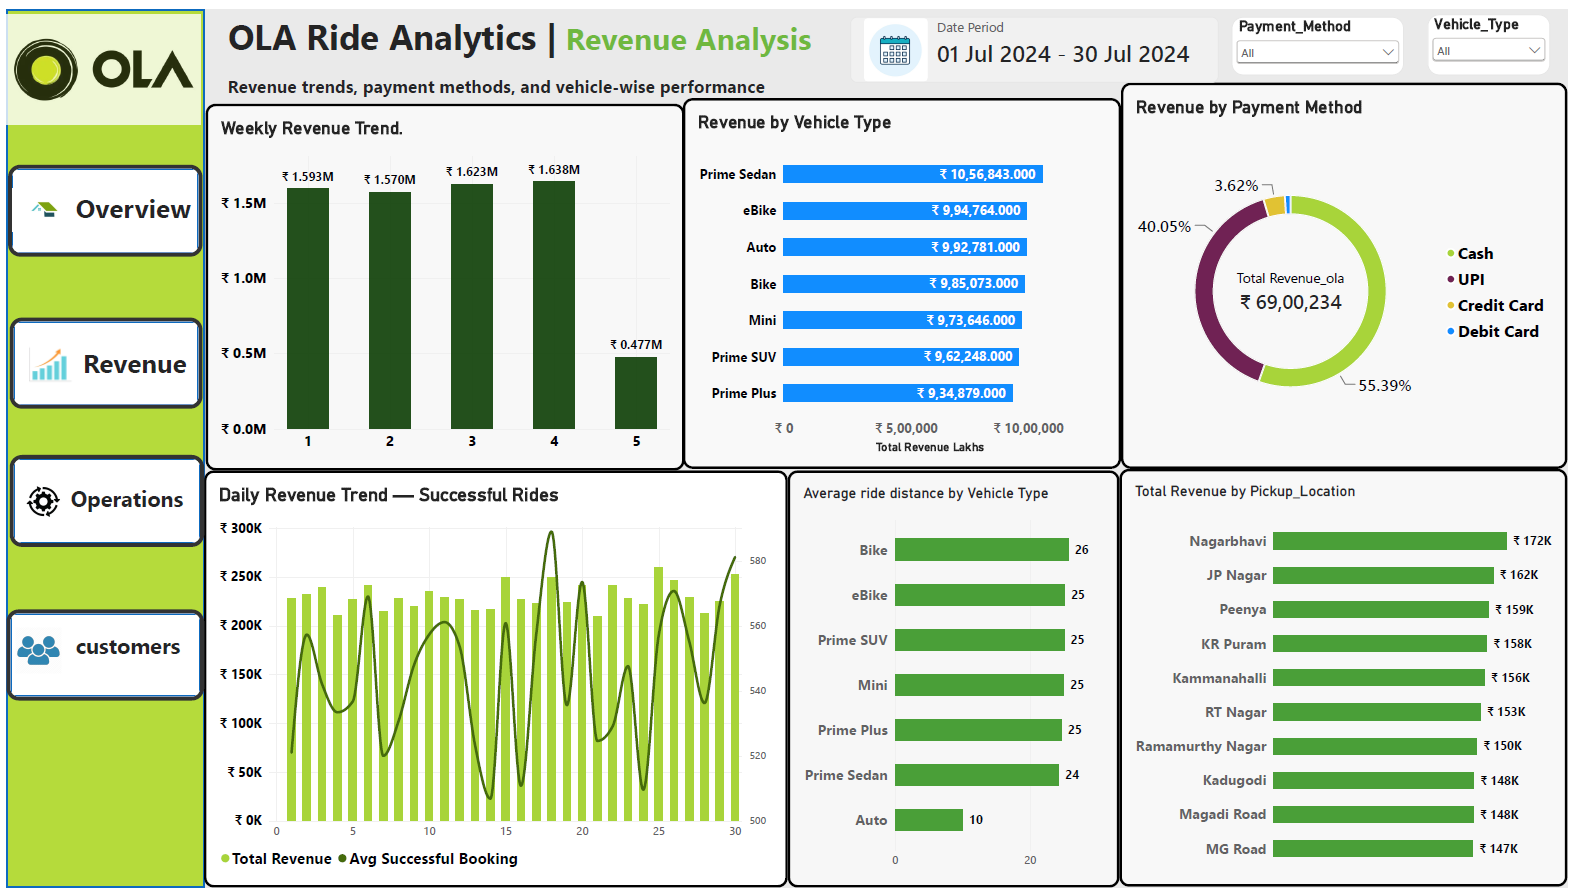

What the dashboard file says about the page in this screenshot:
{"tool":"powerbi","page":{"name":"Revenue Analysis","canvas":[1920,1080],"ordinal":1},"visuals":[{"type":"shape","box":[0,0,242.9,1080.4],"z":0},{"type":"shape","box":[1.8,191.4,239.3,112.3],"z":1},{"type":"image","box":[0,0,239.3,147.2],"z":2},{"type":"textbox","box":[272.4,3.7,730.7,104.9],"z":3},{"type":"lineClusteredColumnComboChart","title":"Daily Revenue Trend — Successful Rides","fields":{"Category":["ola bookings_clean.Date.1.Variation.Date Hierarchy.Day"],"Y":["ola bookings_clean.Total Revenue"],"Y2":["ola bookings_clean.Avg Successful Booking Value_ola"]},"box":[242.9,566.9,717.8,513.5],"z":4},{"type":"clusteredBarChart","title":"Revenue by Vehicle Type ","fields":{"Category":["ola bookings_clean.Vehicle_Type"],"Y":["ola bookings_clean.Total Revenue"]},"box":[831.9,108.6,539.3,456.4],"z":5},{"type":"donutChart","title":"Revenue by Payment Method","fields":{"Category":["ola bookings_clean.Payment_Method"],"Y":["ola bookings_clean.Total Revenue_ola"]},"box":[1371.2,90.2,548.5,474.8],"z":6},{"type":"clusteredColumnChart","title":"Weekly Revenue Trend.","fields":{"Category":["ola bookings_clean.Week Sort"],"Y":["ola bookings_clean.Total Revenue"]},"box":[244.8,116,589,450.9],"z":7},{"type":"barChart","title":"Average  ride distance by Vehicle Type","fields":{"Category":["ola bookings_clean.Vehicle_Type"],"Y":["ola bookings_clean.Avg success Ride Distance"]},"box":[960.7,566.9,408.6,513.5],"z":8},{"type":"barChart","fields":{"Category":["ola bookings_clean.Pickup_Location"],"Y":["ola bookings_clean.Total Revenue"]},"box":[1369.3,565,550.3,513.5],"z":9},{"type":"slicer","fields":{"Values":["ola bookings_clean.Vehicle_Type"]},"box":[1748.5,5.5,150.9,75.5],"z":11},{"type":"slicer","fields":{"Values":["ola bookings_clean.Payment_Method"]},"box":[1507.4,9.2,211.7,71.8],"z":12},{"type":"cardVisual","fields":{"Data":["ola bookings_clean.Date Period"]},"box":[1038,9.2,452.8,81],"z":13},{"type":"shape","box":[3.7,379.1,237.4,112.3],"z":14},{"type":"shape","box":[3.7,548.5,239.3,112.3],"z":15},{"type":"shape","box":[0,738,242.9,112.3],"z":16},{"type":"image","box":[7.4,191.4,79.1,110.4],"z":18},{"type":"image","box":[0,401.2,106.7,69.9],"z":19},{"type":"image","box":[11,568.7,68.1,71.8],"z":20},{"type":"image","box":[11,752.8,57.1,69.9],"z":21},{"type":"textbox","box":[84.7,220.9,158.3,53.4],"z":23},{"type":"textbox","box":[93.9,412.3,139.9,47.9],"z":24},{"type":"textbox","box":[79.1,583.4,204.3,75.5],"z":25},{"type":"textbox","box":[84.7,763.8,185.9,62.6],"z":26}]}

Visuals, with their boxes in screenshot pixels (x1, y1, x2, y2), scaled from the page's 1920x1080 canvas onto the 1577x889 screenshot:
shape: region(0, 0, 200, 888)
shape: region(1, 158, 198, 250)
image: region(0, 0, 197, 121)
textbox: region(224, 3, 824, 89)
"Daily Revenue Trend — Successful Rides" lineClusteredColumnComboChart: region(200, 467, 789, 888)
"Revenue by Vehicle Type " clusteredBarChart: region(683, 89, 1126, 465)
"Revenue by Payment Method" donutChart: region(1126, 74, 1576, 465)
"Weekly Revenue Trend." clusteredColumnChart: region(201, 95, 685, 467)
"Average  ride distance by Vehicle Type" barChart: region(789, 467, 1125, 888)
barChart - ola bookings_clean.Pickup_Location x ola bookings_clean.Total Revenue: region(1125, 465, 1576, 888)
slicer - ola bookings_clean.Vehicle_Type: region(1436, 5, 1560, 67)
slicer - ola bookings_clean.Payment_Method: region(1238, 8, 1412, 67)
cardVisual - ola bookings_clean.Date Period: region(853, 8, 1224, 74)
shape: region(3, 312, 198, 404)
shape: region(3, 451, 200, 544)
shape: region(0, 607, 200, 700)
image: region(6, 158, 71, 248)
image: region(0, 330, 88, 388)
image: region(9, 468, 65, 527)
image: region(9, 620, 56, 677)
textbox: region(70, 182, 200, 226)
textbox: region(77, 339, 192, 379)
textbox: region(65, 480, 233, 542)
textbox: region(70, 629, 222, 680)
